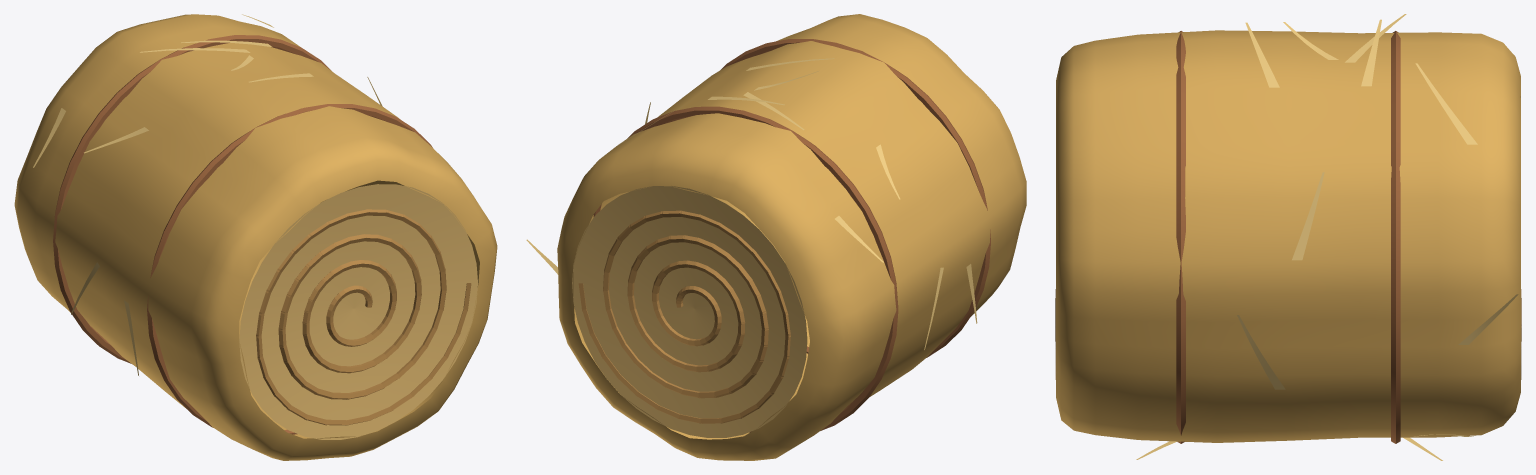
File: hay_bale.glb
The picture shows the model from 3 angles, left to right: view 1: azimuth 30°, elevation 25°; view 2: azimuth 150°, elevation 25°; view 3: azimuth 270°, elevation 25°; orthographic projection. The views are drawn at different scales.
Parts seen in each view (by area): view 1: straw, end1, groove1, twine-3, twine3, wisps; view 2: straw, end-1, groove-1, twine-3, twine3, wisps; view 3: straw, twine-3, wisps, twine3.
Boxes of the visible parts, x1,y1,x2,y2 form: straw: (14, 14, 497, 460); end1: (239, 184, 477, 439); groove1: (256, 209, 471, 425); twine-3: (53, 35, 356, 363); twine3: (147, 104, 432, 434); wisps: (33, 14, 382, 375); straw: (557, 14, 1026, 460); end-1: (572, 186, 807, 437); groove-1: (578, 210, 790, 423); twine-3: (593, 106, 898, 432); twine3: (721, 39, 990, 357); wisps: (526, 58, 977, 349); straw: (1056, 30, 1520, 442); twine-3: (1391, 31, 1400, 443); wisps: (1136, 14, 1518, 460); twine3: (1176, 31, 1185, 443).
Size of the model in its own units: 1.22 by 1.24 by 1.3.
